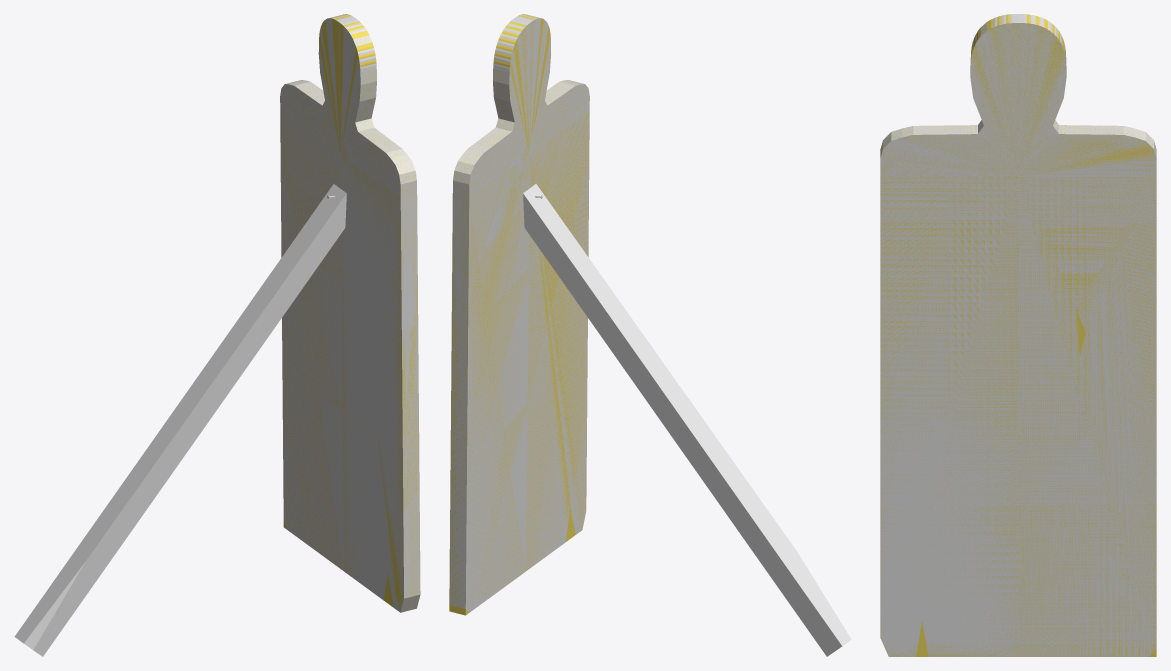
File: target_civ.fbx
3 renders of one model, left to right at view 1: azimuth 30°, elevation 25°; view 2: azimuth 150°, elevation 25°; view 3: azimuth 270°, elevation 25°, orthographic. The views are drawn at different scales.
Visible parts, largest first — view 1: plate_LOD0, plank_LOD0, UTM_Plate; view 2: plate_LOD0, UTM_Plate, plank_LOD0; view 3: plate_LOD0, UTM_Plate.
Boxes of the visible parts, x1,y1,x2,y2 form: plate_LOD0: (280,14,420,612); plank_LOD0: (14,184,346,656); UTM_Plate: (280,14,420,611); plate_LOD0: (449,14,589,612); UTM_Plate: (449,14,589,615); plank_LOD0: (523,184,851,656); plate_LOD0: (880,14,1156,656); UTM_Plate: (880,14,1156,656).
Size of what is drawn, in the model's own units: 116 by 181 by 71.26.
